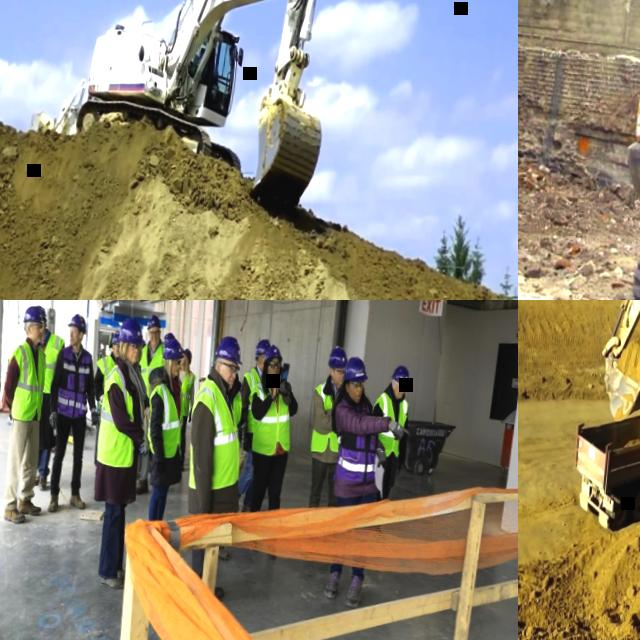Hardhat: (215, 333, 244, 363), (118, 314, 146, 344), (342, 353, 369, 381), (163, 335, 185, 359), (327, 343, 347, 367), (66, 310, 87, 332), (391, 363, 411, 385), (262, 340, 282, 362), (23, 305, 45, 323), (254, 336, 270, 355), (146, 313, 161, 329), (180, 346, 192, 362), (109, 330, 120, 343), (162, 330, 175, 340), (35, 305, 45, 316)
NO-Mask: (223, 372, 234, 387), (126, 351, 138, 362), (351, 389, 361, 401), (268, 368, 279, 378), (68, 336, 78, 346), (32, 330, 41, 341), (149, 336, 158, 345), (394, 387, 403, 396), (333, 375, 342, 383), (171, 367, 179, 375), (113, 348, 120, 357), (180, 358, 184, 363)
Person: (318, 351, 417, 610), (174, 330, 255, 604), (83, 314, 159, 591), (38, 309, 109, 516), (237, 341, 302, 558), (0, 302, 57, 524), (138, 335, 196, 521), (21, 304, 69, 491), (361, 360, 413, 531), (127, 312, 169, 496), (303, 342, 349, 507), (230, 334, 272, 510), (86, 329, 120, 467), (171, 345, 197, 469), (193, 45, 220, 104), (228, 373, 245, 425), (162, 329, 174, 350)
Safety Vest: (183, 374, 247, 491), (94, 363, 141, 468), (327, 394, 381, 481), (244, 377, 295, 456), (4, 339, 47, 421), (143, 381, 187, 458), (56, 343, 93, 419), (368, 387, 408, 456), (309, 379, 345, 452), (136, 339, 164, 398), (39, 331, 65, 393), (238, 366, 263, 430), (90, 353, 116, 414), (177, 370, 196, 417)
vehicle: (68, 0, 340, 216), (566, 381, 640, 538), (589, 300, 640, 522), (615, 0, 640, 300), (28, 70, 86, 141)
